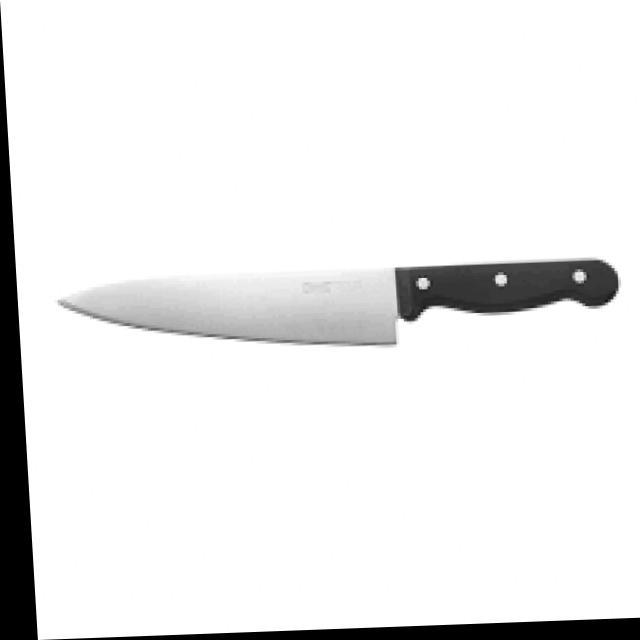knife: (56, 258, 620, 350)
